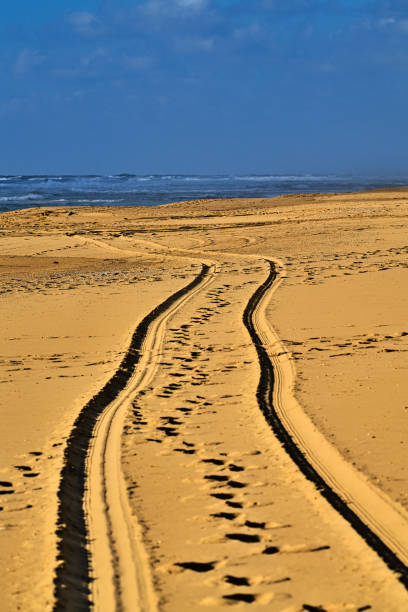vehicle_track: (54, 263, 213, 610), (243, 260, 407, 588)
